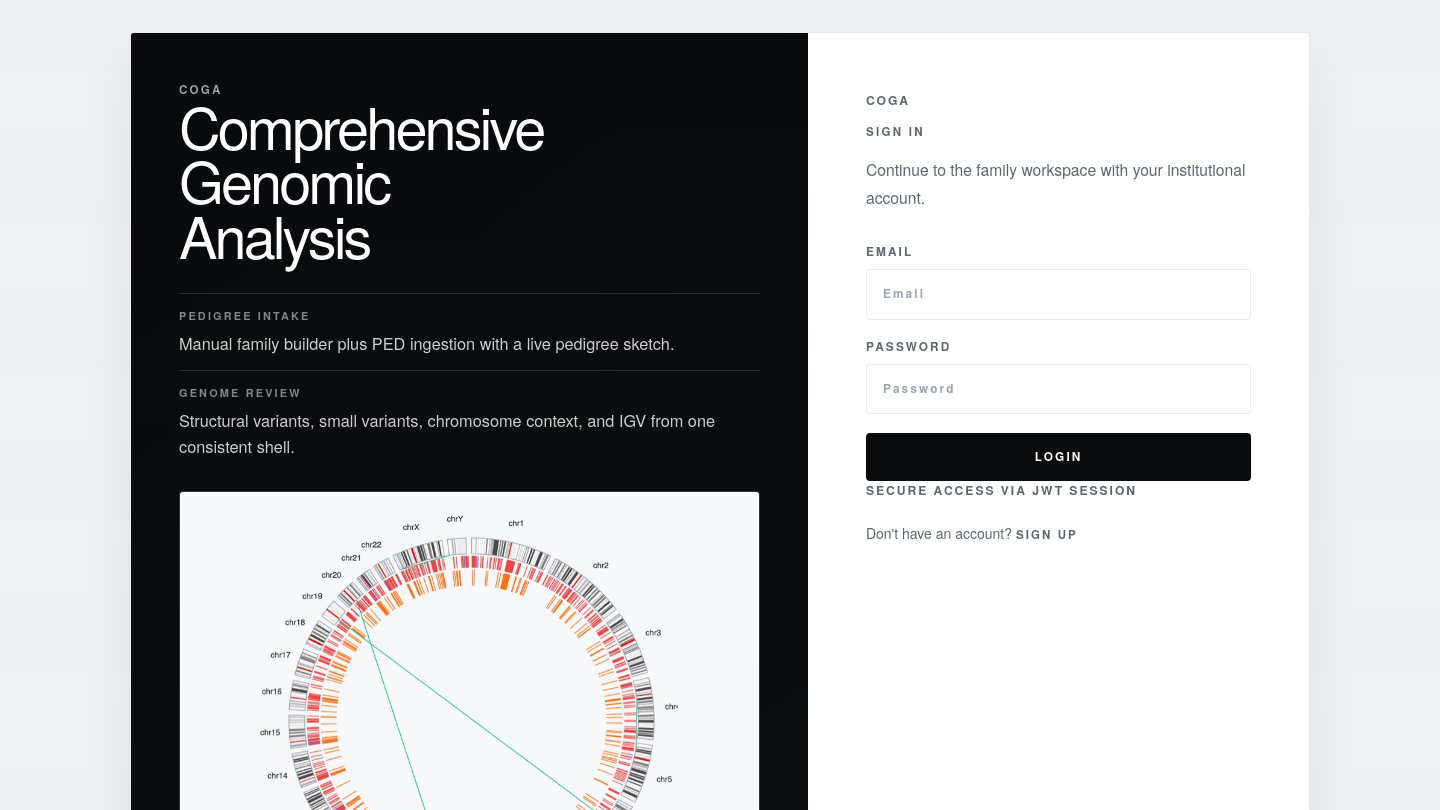
Test case: LoginPage › shows an explicit API unavailable message on transport failure
This screenshot has width=1440, height=810.
Type "admin@example.com" into the field with placeholder "Email" at (1059, 294), box x1=866 y1=269 x2=1251 y2=320
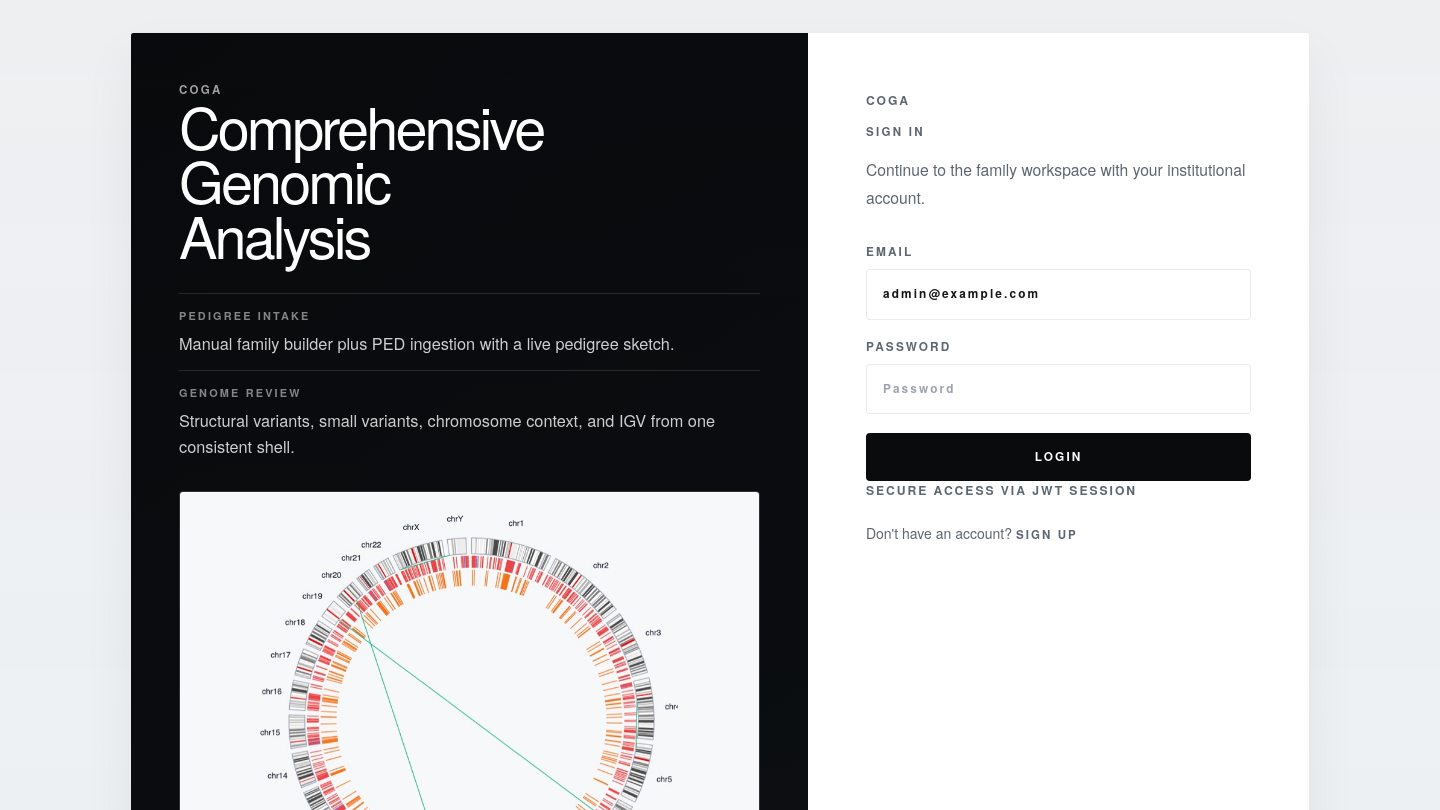
Type "admin" into the password field with placeholder "Password" at (1059, 389), box x1=866 y1=364 x2=1251 y2=414
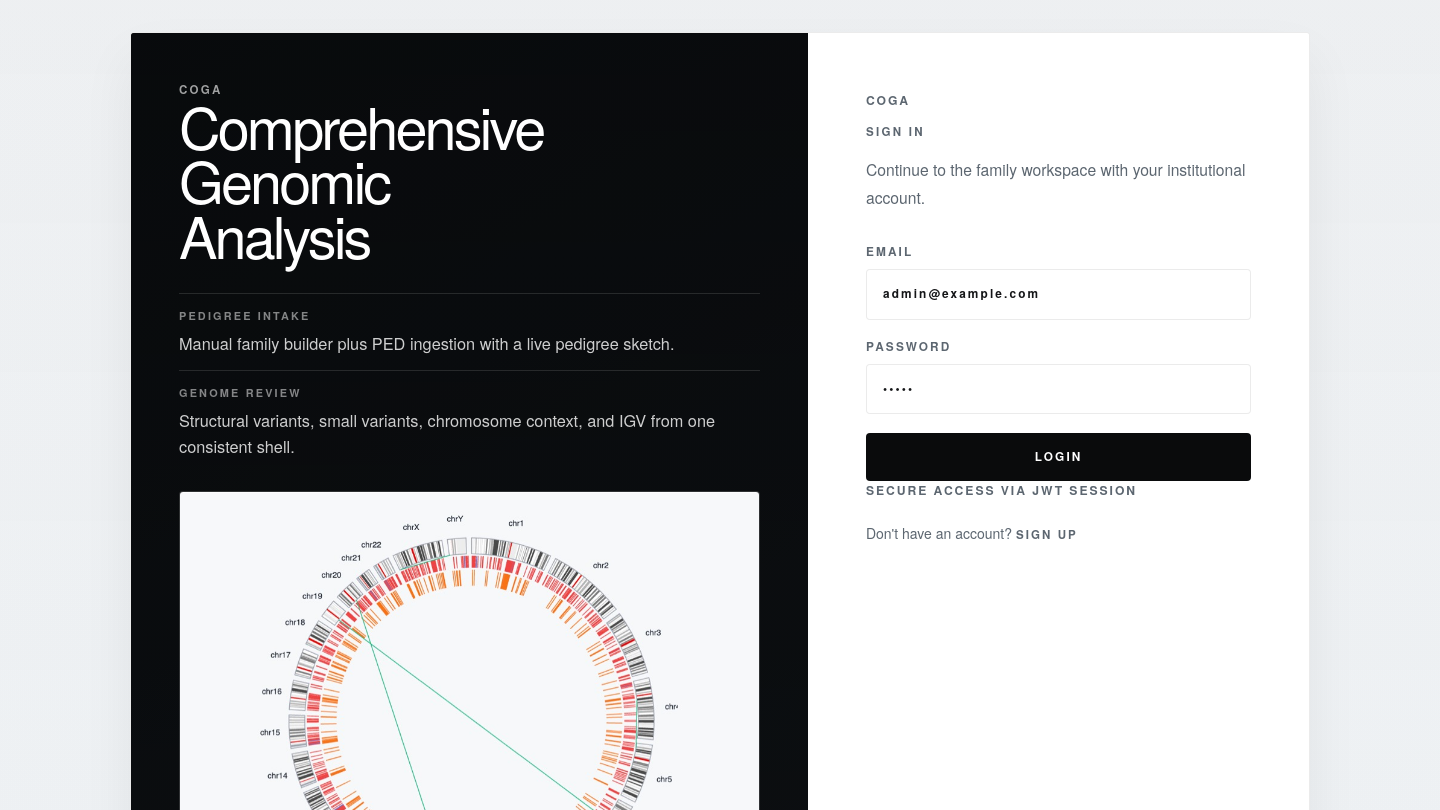
Click the button "Login" at (1059, 457), box x1=866 y1=433 x2=1251 y2=481
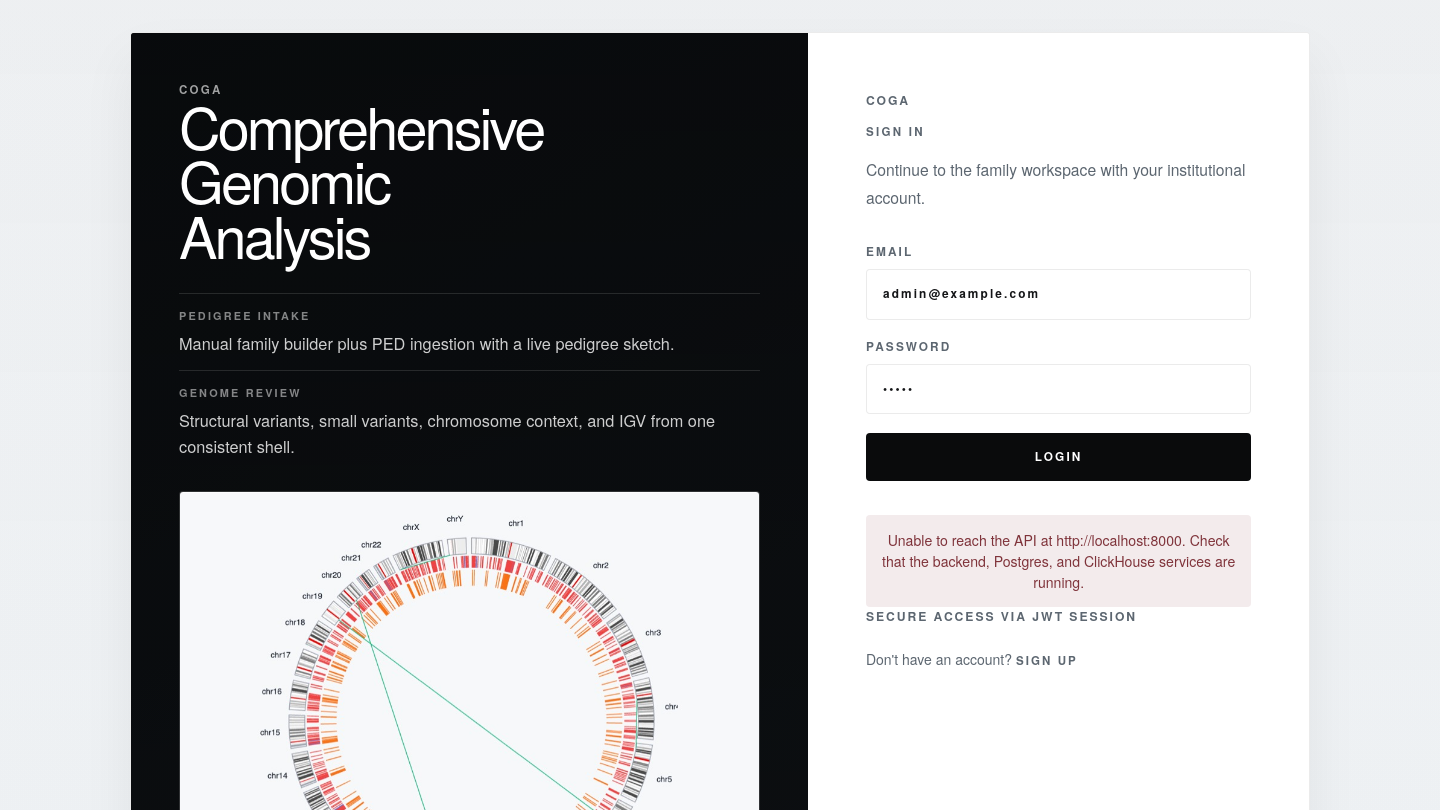
Result: the text "unable to reach the api at http://localhost:8000. check that the backend, postgres, and clickhouse services are runni" is shown at x1=882 y1=530 x2=1235 y2=592
